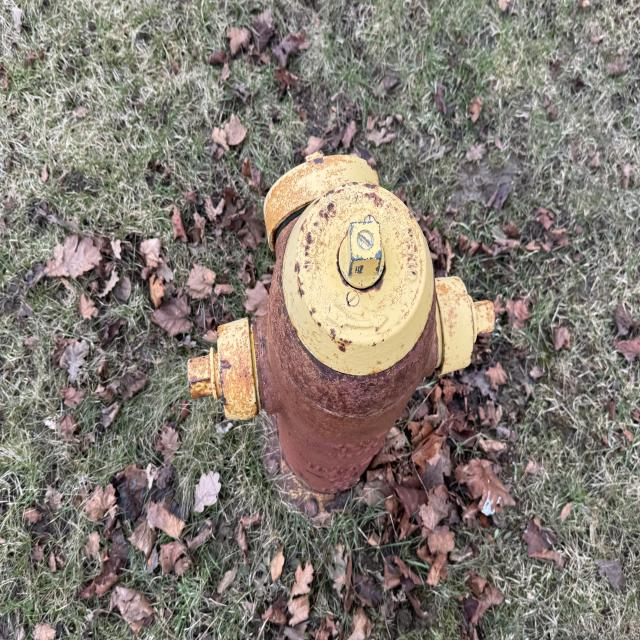Fire hydrant: (185, 154, 497, 530)
